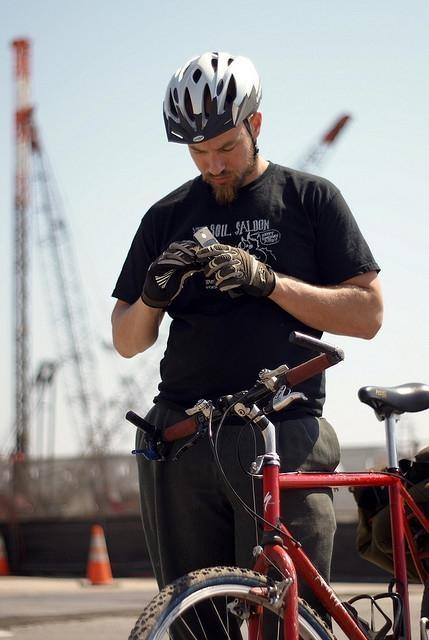bicycle: (123, 332, 429, 640)
